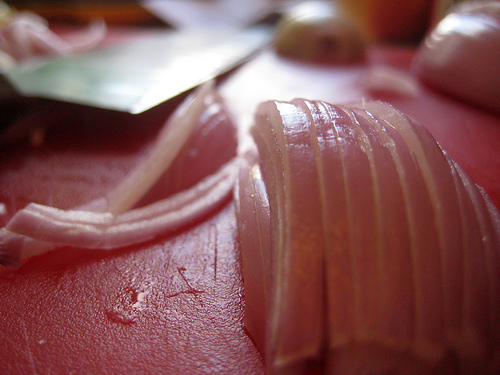onion: (236, 101, 491, 367), (8, 83, 234, 245), (408, 0, 499, 105), (275, 1, 365, 63)
